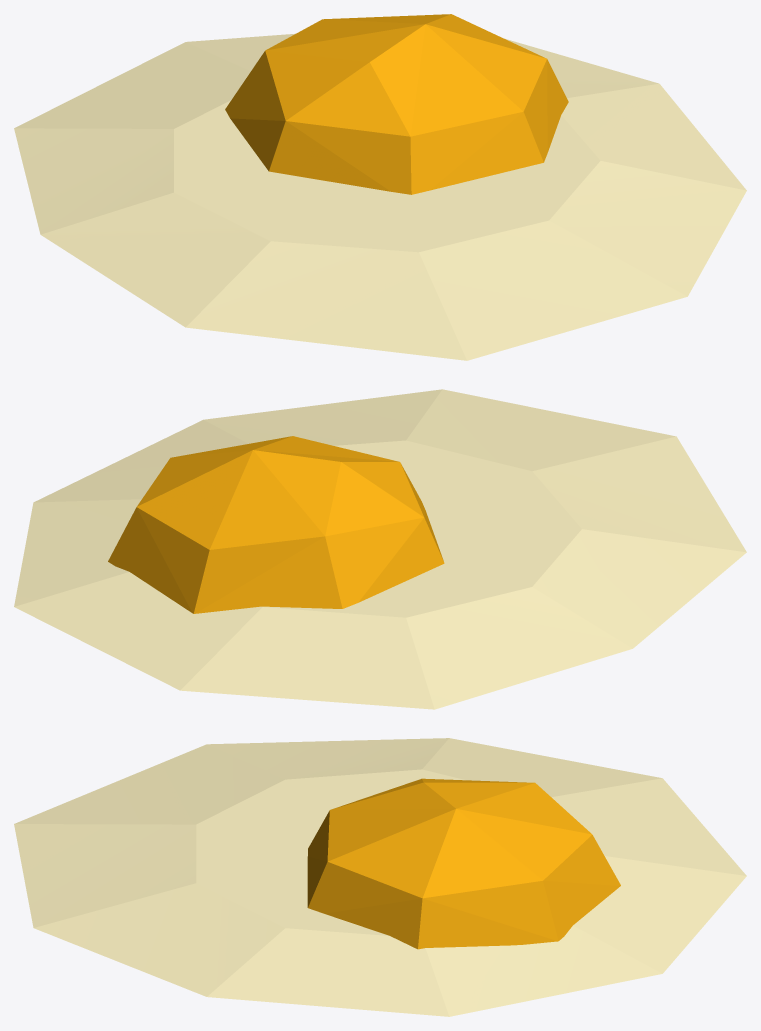
File: fried_egg.obj
3 views of the same model, one above another, from view 1: azimuth 30°, elevation 25°; view 2: azimuth 150°, elevation 25°; view 3: azimuth 270°, elevation 25° (orthographic). The views are drawn at different scales.
Parts seen in each view (by area): view 1: Cylinder_Mesh; view 2: Cylinder_Mesh; view 3: Cylinder_Mesh.
Boxes of the visible parts, left/top/right/bottom form: Cylinder_Mesh: left=14, top=14, right=746, bottom=360; Cylinder_Mesh: left=14, top=389, right=746, bottom=709; Cylinder_Mesh: left=14, top=738, right=746, bottom=1016.
Bounding box in the file's own units: 0.1157 × 0.0202 × 0.1286.
